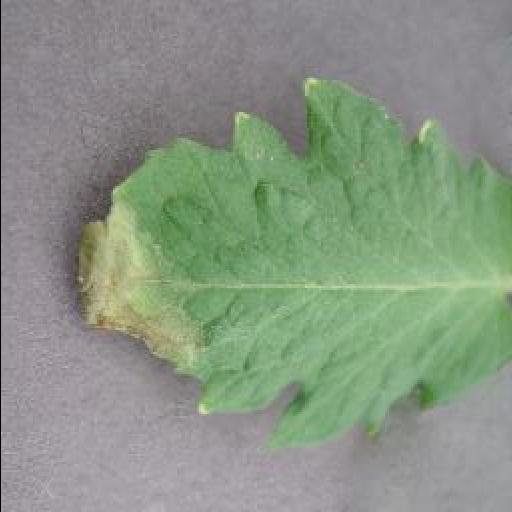disease_tomato: (62, 74, 512, 456)
